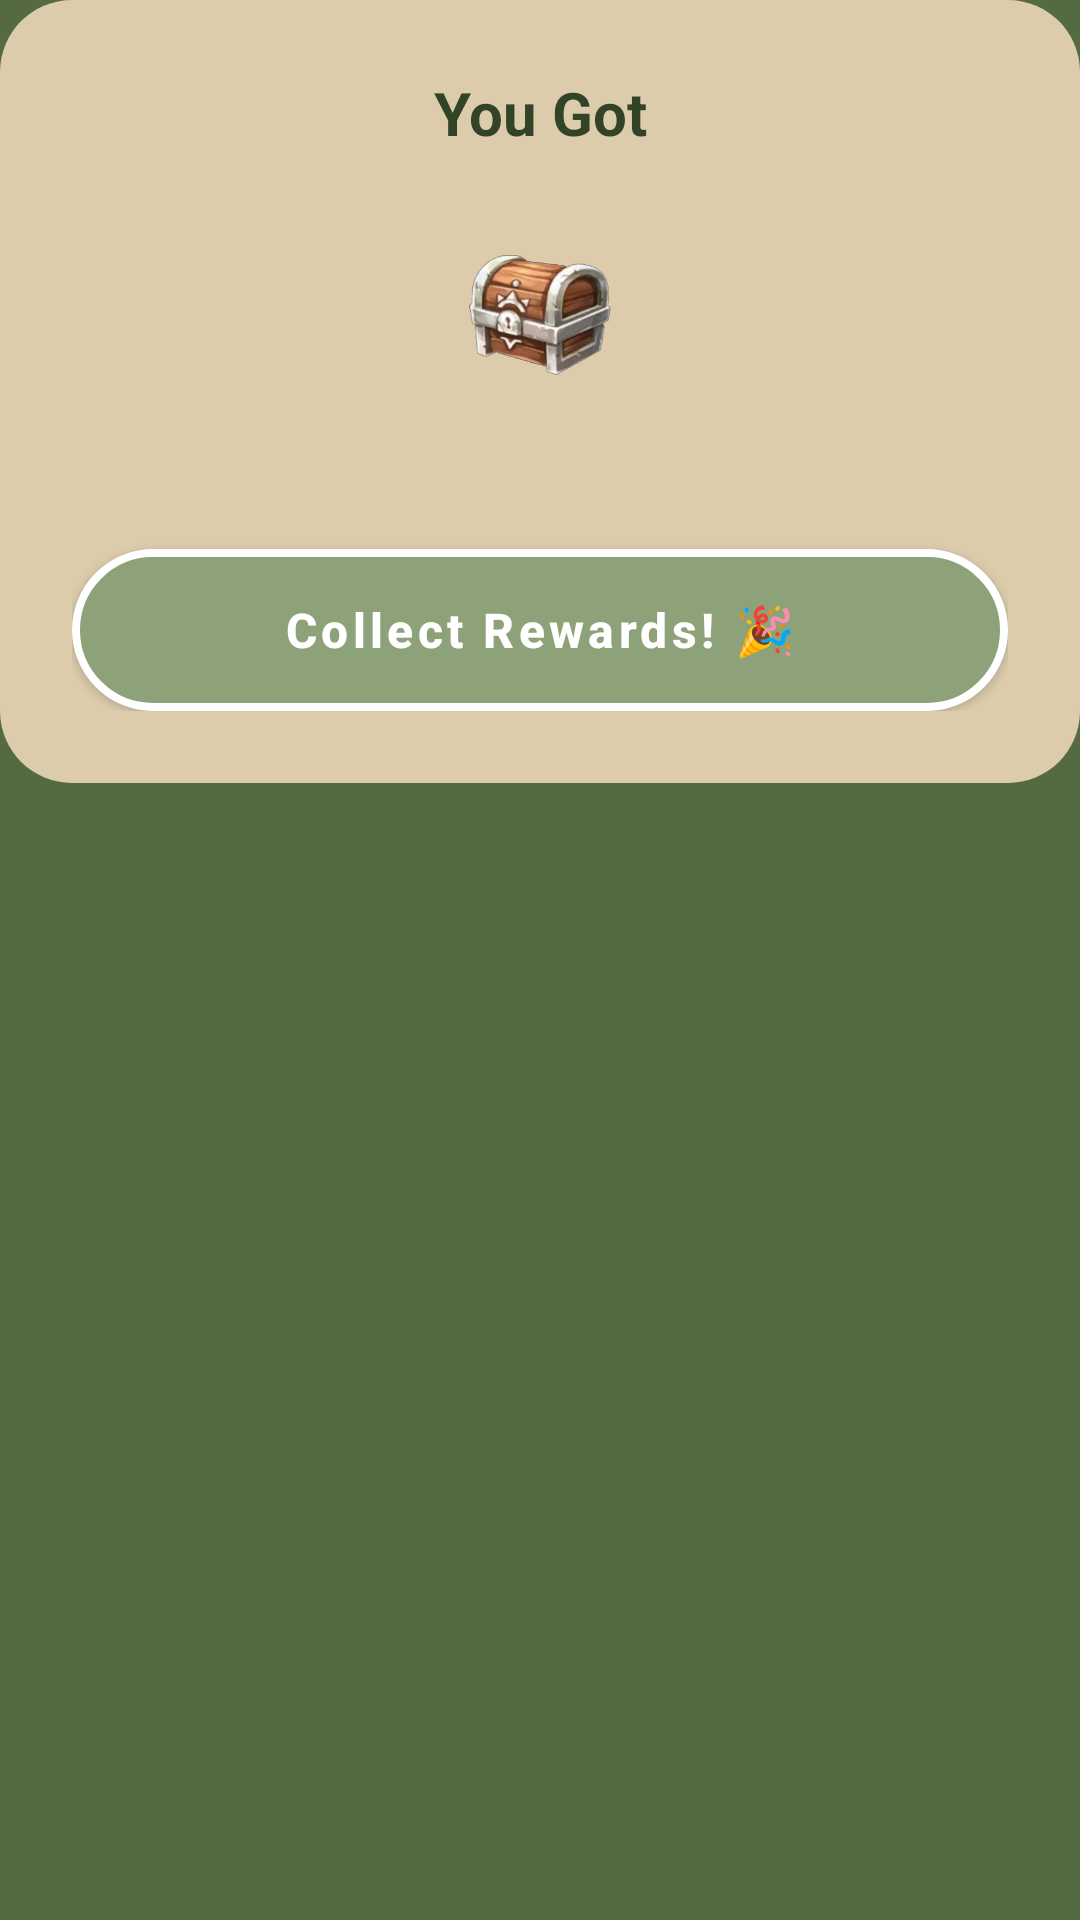

Icon click points for this 1080x1920 phone screenshot, format (x=x, y=y):
chest wood: (x=540, y=315)
